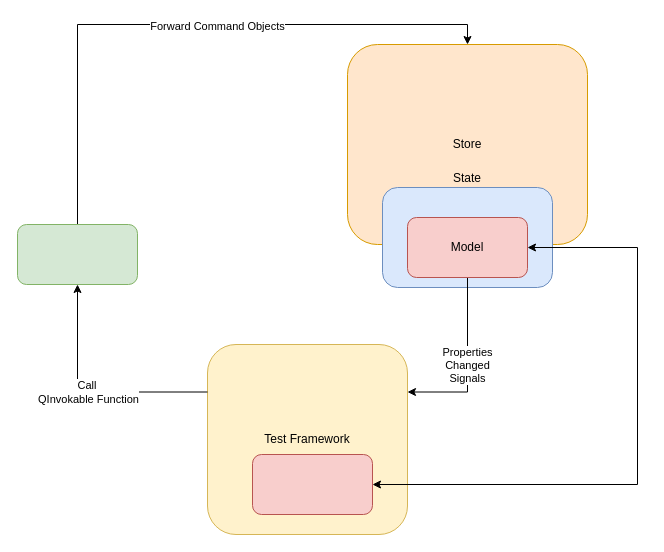
This 664x552 diagram has some shape labels left out. The centre of each missing label's shape, as x and y in pixels:
Event Handler: pixel 77 254
Mocked Hardware: pixel 312 484
